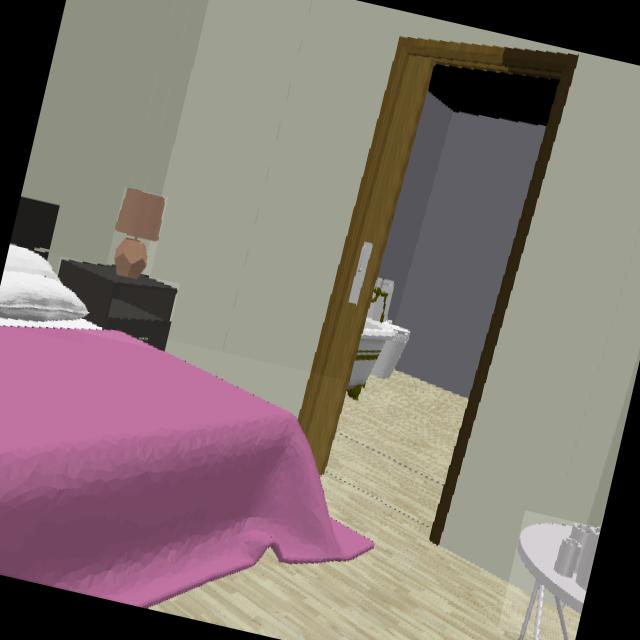bed: (0, 315, 373, 609)
lamp: (113, 188, 165, 281)
nighttable: (56, 261, 176, 349)
pillow: (0, 243, 88, 326)
table: (517, 522, 599, 640)
